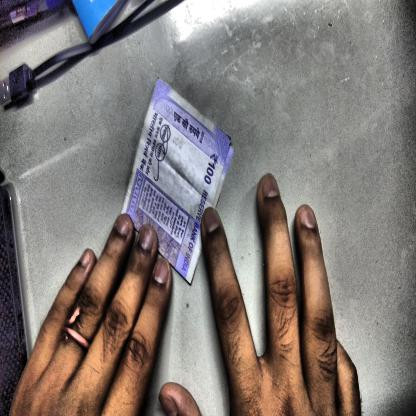Rs100: (202, 147, 222, 189)
